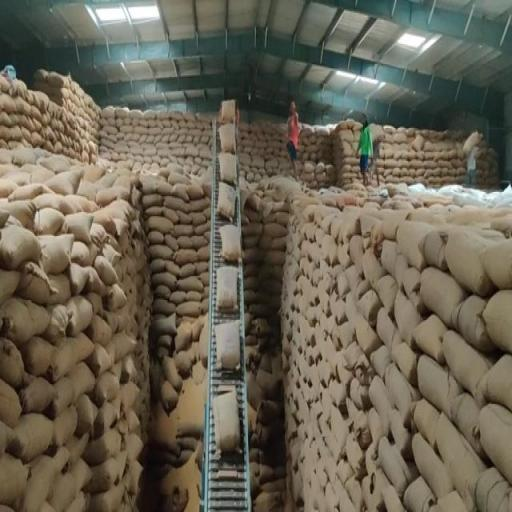c-belt-sack-count: (214, 391, 239, 452), (216, 321, 240, 370), (217, 266, 238, 311), (220, 226, 241, 262)
